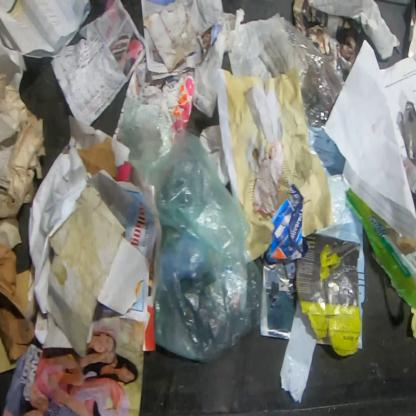cardboard: (44, 184, 127, 357), (346, 188, 416, 311), (294, 231, 361, 358), (0, 73, 47, 250), (0, 242, 38, 361), (76, 136, 118, 178), (0, 335, 18, 374)
soft_plastic: (117, 101, 275, 365), (258, 11, 346, 178), (279, 299, 317, 405)
